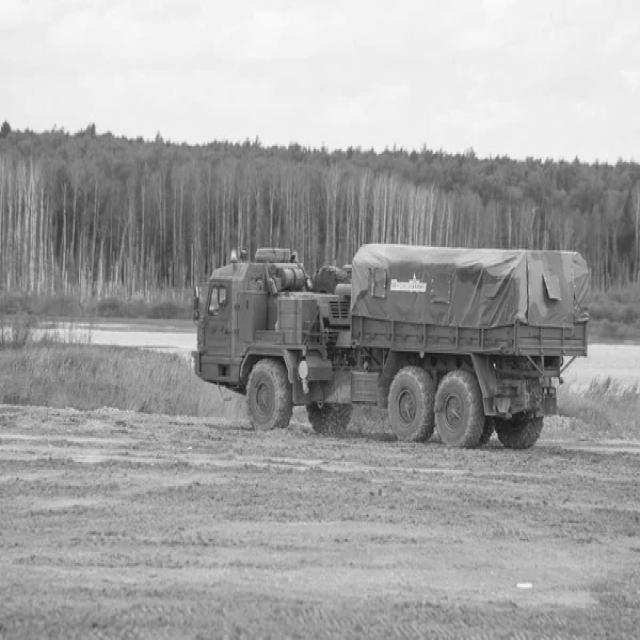Truck: (195, 244, 590, 448)
